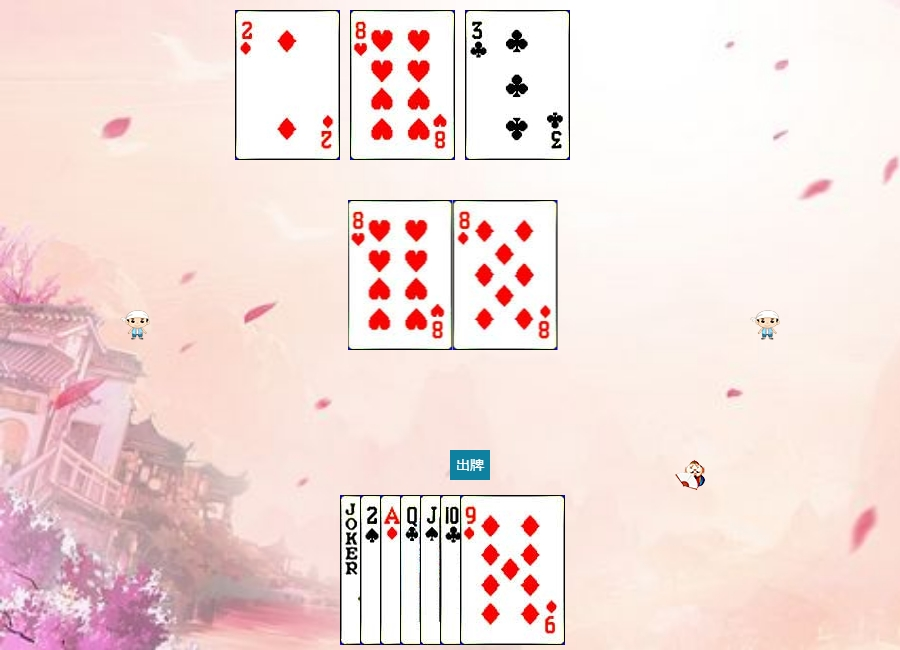10~2: (440, 495, 545, 645)
11~4: (420, 495, 525, 645)
12~2: (400, 495, 505, 645)
14~1: (380, 495, 485, 645)
15~1: (235, 10, 340, 160)
15~4: (360, 495, 465, 645)
17~3: (340, 495, 445, 645)
3~2: (465, 10, 570, 160)
8~1: (453, 200, 558, 350)
8~3: (350, 10, 455, 160), (348, 200, 453, 350)
9~1: (460, 495, 565, 645)
